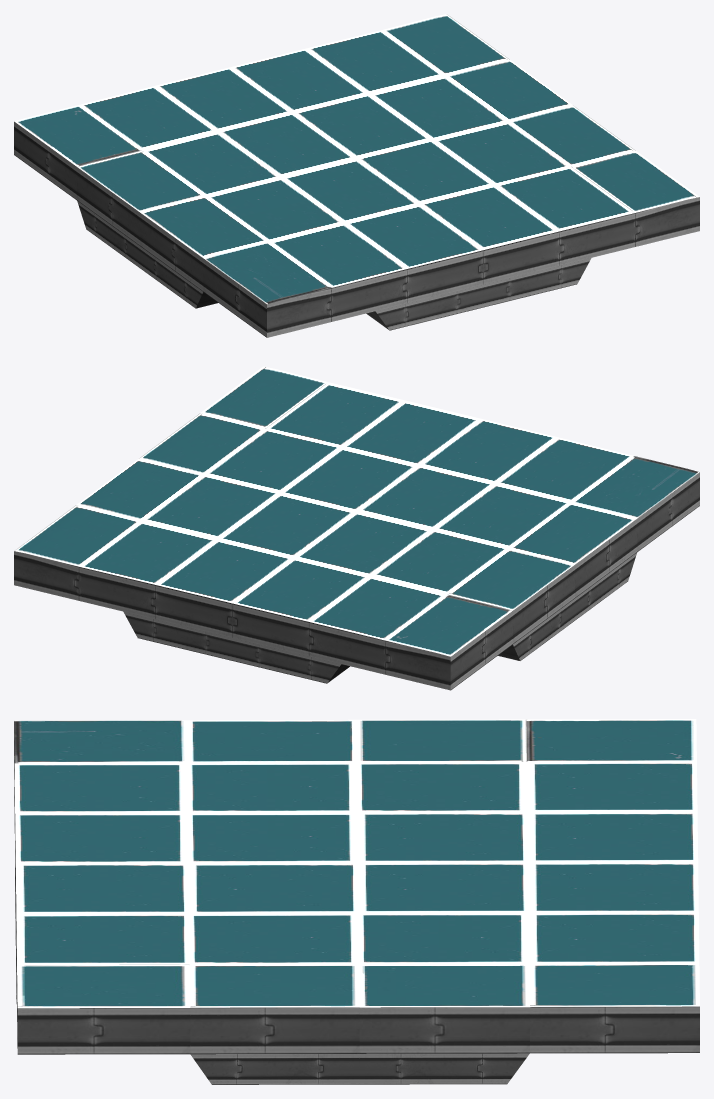
The model's file is ARC1110001.fbx.
3 renders of one model, top to bottom at view 1: azimuth 30°, elevation 25°; view 2: azimuth 150°, elevation 25°; view 3: azimuth 270°, elevation 25°, orthographic. The views are drawn at different scales.
Visible parts, largest first — view 1: smARC1110001; view 2: smARC1110001; view 3: smARC1110001.
Part boxes in pixels (x1,y1,x2,y2): smARC1110001: [14, 14, 699, 337]; smARC1110001: [14, 366, 699, 690]; smARC1110001: [14, 719, 699, 1084].
Bounding box in the file's own units: 531 × 66.92 × 532.
1 material, 1 textured.
